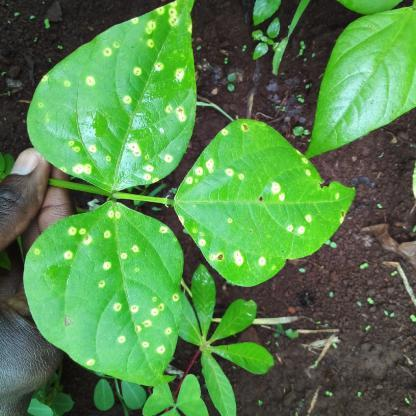Beans_Rust: (27, 2, 206, 189), (24, 200, 180, 387), (181, 121, 355, 281)
